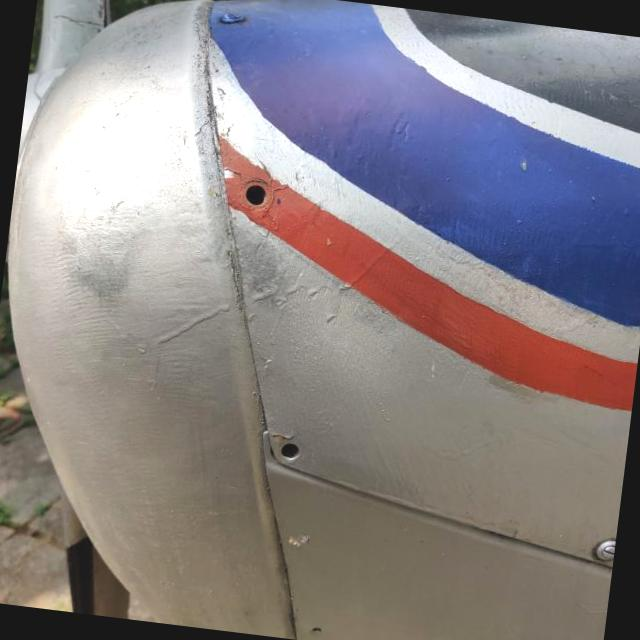Missing Fastener: (268, 433, 300, 464), (242, 177, 270, 206), (300, 616, 326, 640)
